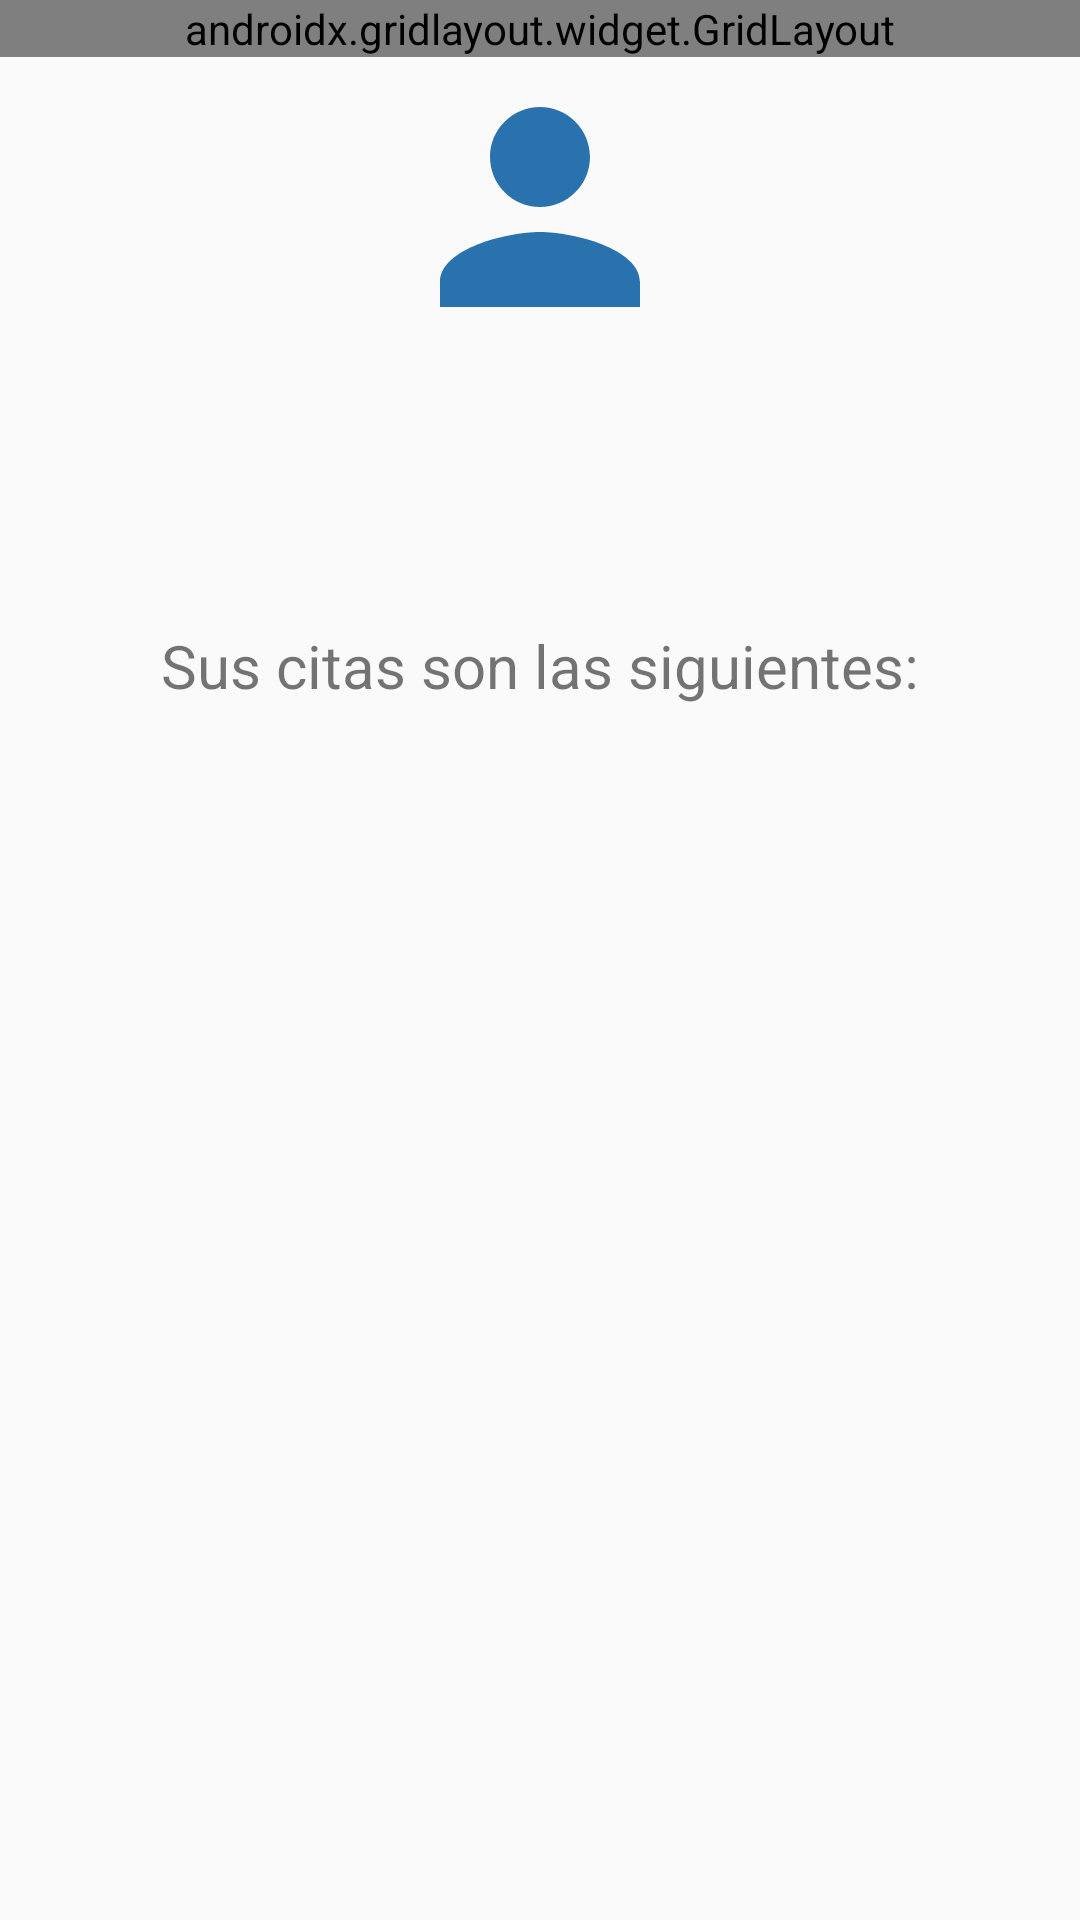

Icon click points for this 1080 × 1920 phone screenshot, format (x=x, y=y):
paciente: (x=540, y=207)
